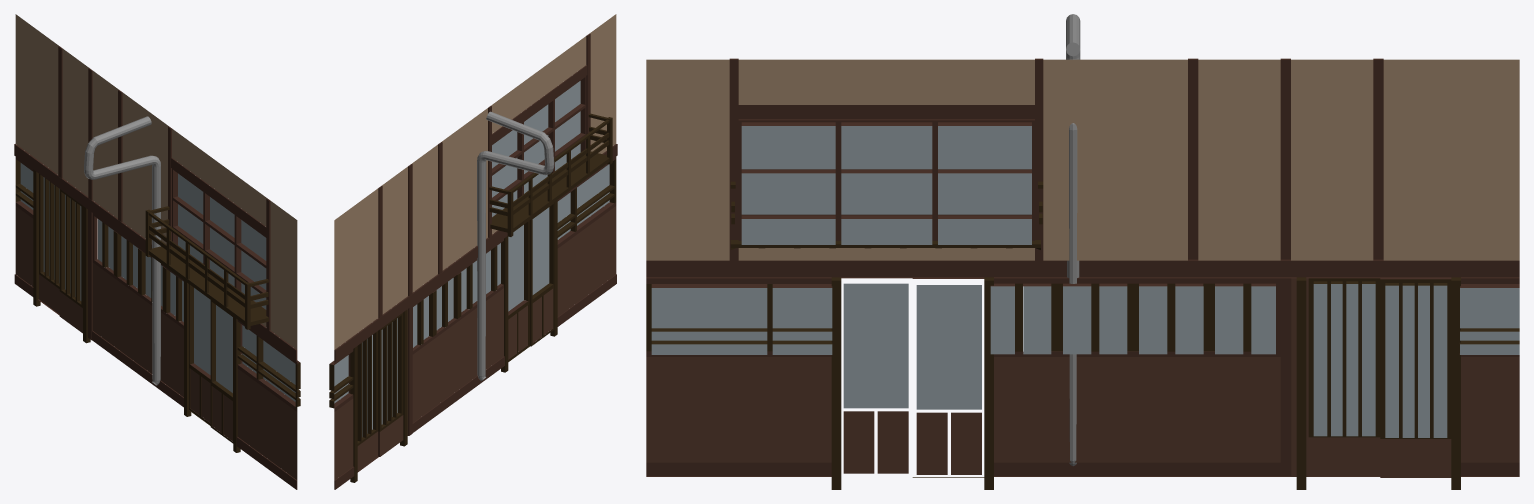
Rendered from right_wall_3.glb.
The picture shows the model from 3 angles, left to right: view 1: azimuth 30°, elevation 25°; view 2: azimuth 150°, elevation 25°; view 3: azimuth 270°, elevation 25°; orthographic projection. The views are drawn at different scales.
Visible parts, largest first — view 1: RightWall3; view 2: RightWall3; view 3: RightWall3.
Part boxes in pixels (x1,y1,x2,y2): RightWall3: [14, 14, 300, 489]; RightWall3: [329, 14, 617, 489]; RightWall3: [646, 14, 1519, 489].
Bounding box in the file's own units: 1.85 × 6.22 × 11.26.
